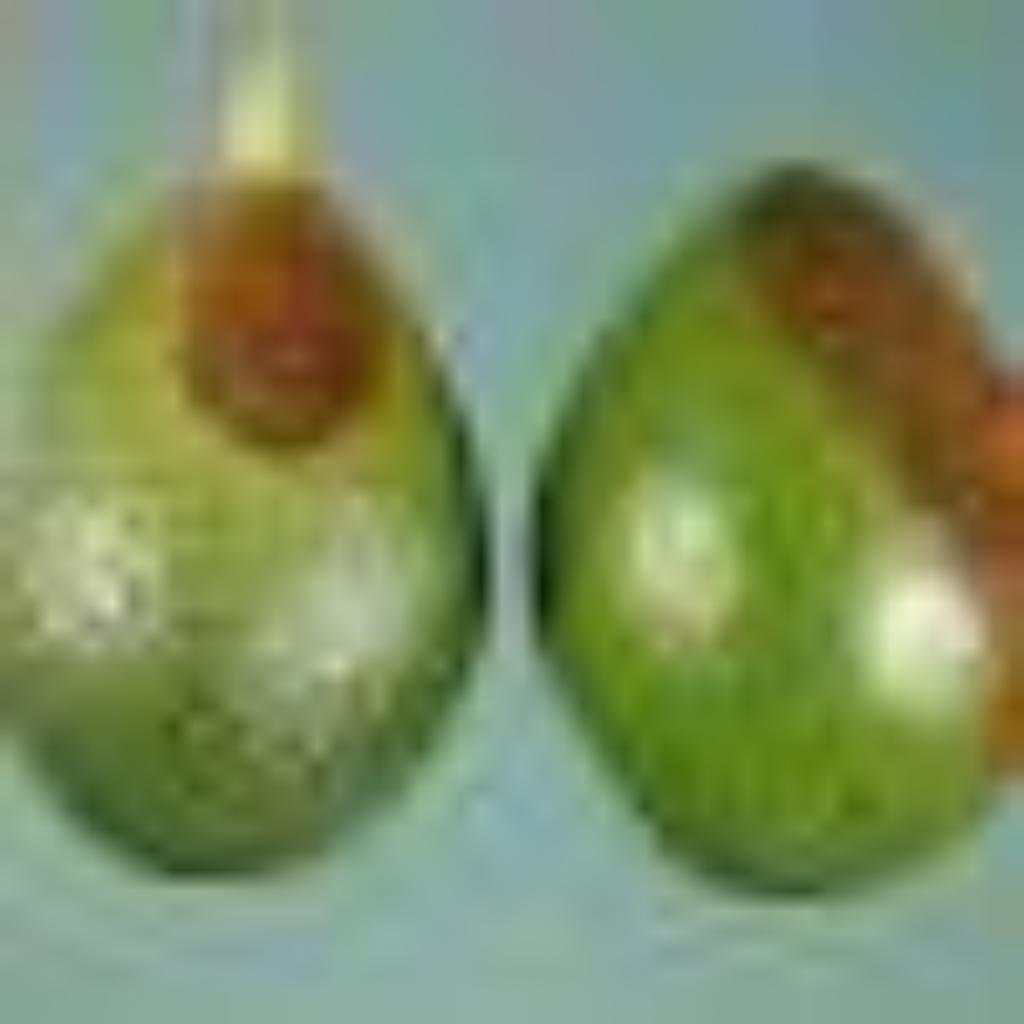antracnosis_fruto: (573, 163, 1024, 798), (91, 184, 460, 532)
